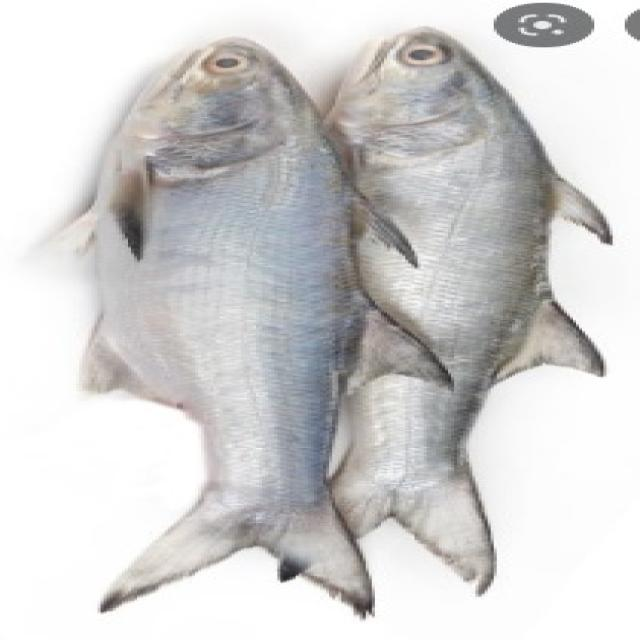Fourfinger-Threadfin: (107, 18, 579, 618)
